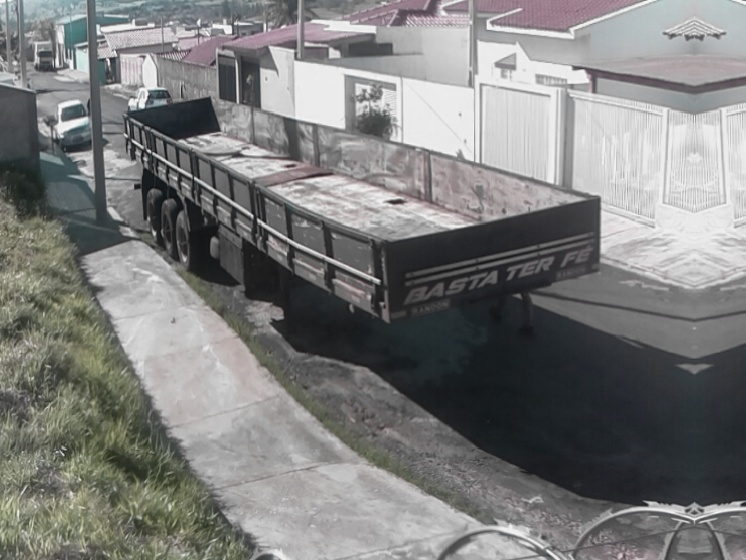person: (483, 287, 540, 341)
